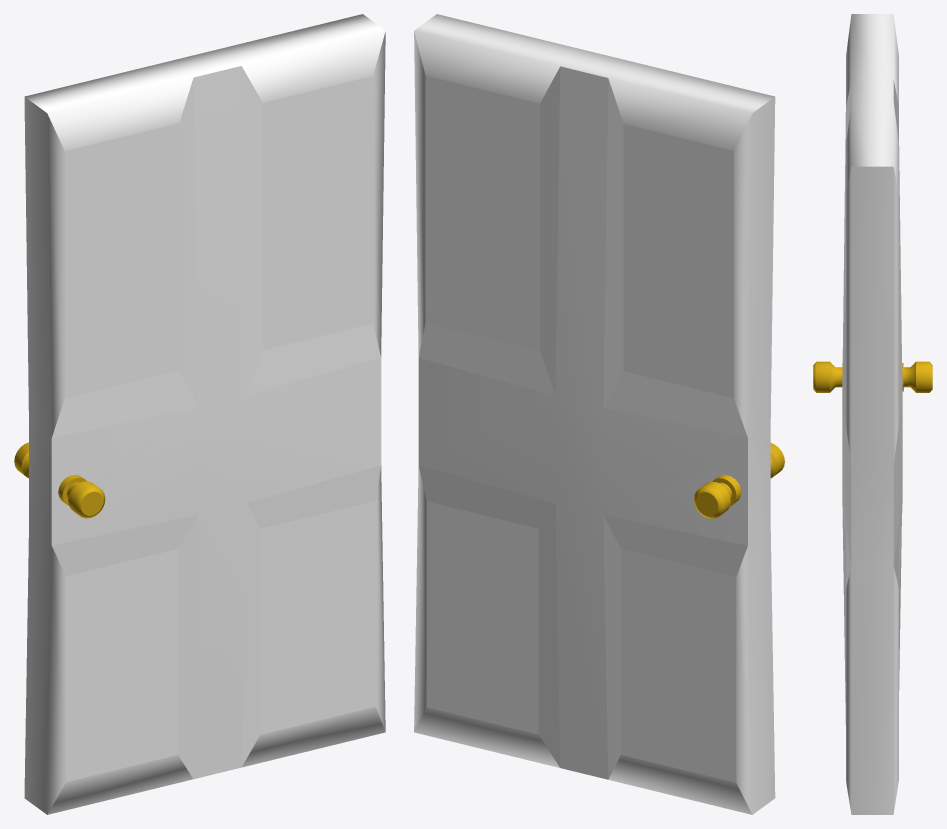
The model's file is door2.fbx.
The picture shows the model from 3 angles, left to right: view 1: azimuth 30°, elevation 25°; view 2: azimuth 150°, elevation 25°; view 3: azimuth 270°, elevation 25°; orthographic projection. The views are drawn at different scales.
Visible parts, largest first — view 1: pCube7; view 2: pCube7; view 3: pCube7.
Boxes of the visible parts, bbox=[...] form: pCube7: bbox=[14, 14, 385, 814]; pCube7: bbox=[414, 14, 784, 814]; pCube7: bbox=[813, 14, 932, 814].
Bounding box in the file's own units: 3.27 × 6.48 × 1.08.
